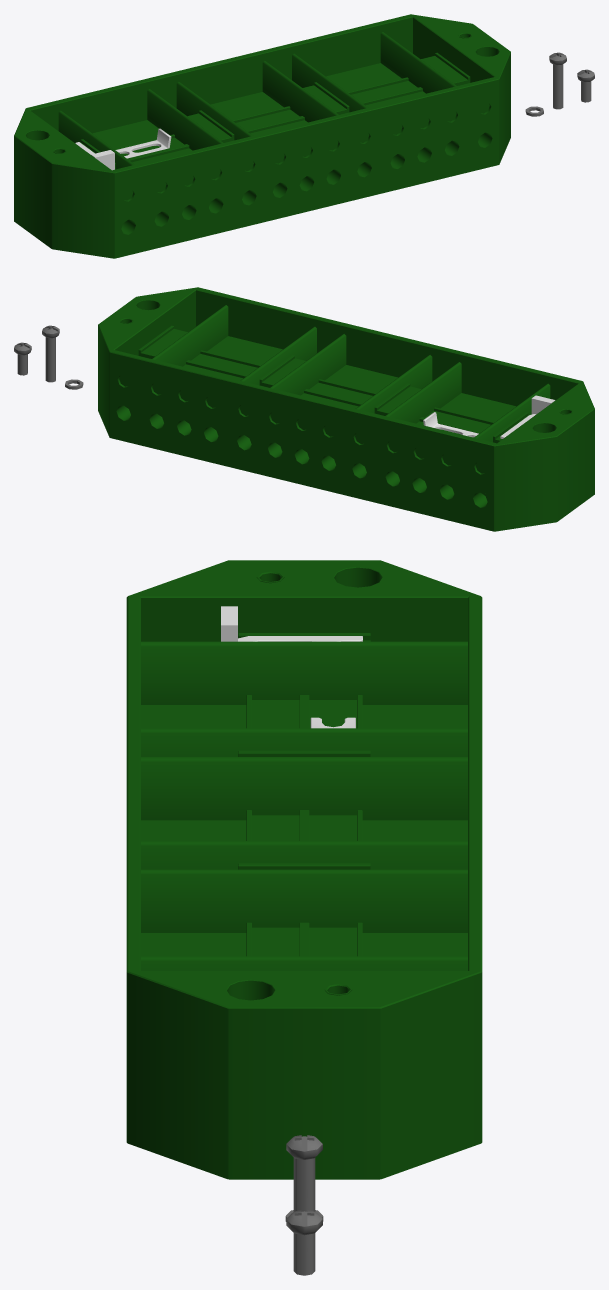
Rendered from Model_ConnectingBox01.FBX.
3 renders of one model, top to bottom at view 1: azimuth 30°, elevation 25°; view 2: azimuth 150°, elevation 25°; view 3: azimuth 270°, elevation 25°, orthographic. The views are drawn at different scales.
Parts seen in each view (by area): view 1: Model_ConnectingBox01, Model_ConnectingBox01_Screw02, Model_ConnectingBox01_WireJumperB01, Model_ConnectingBox01_Screw01; view 2: Model_ConnectingBox01, Model_ConnectingBox01_Screw02, Model_ConnectingBox01_Screw01, Model_ConnectingBox01_WireJumperB01; view 3: Model_ConnectingBox01, Model_ConnectingBox01_Screw02, Model_ConnectingBox01_Screw01.
Boxes of the visible parts, x1,y1,x2,y2 form: Model_ConnectingBox01: (14,14,510,258); Model_ConnectingBox01_Screw02: (549,52,566,109); Model_ConnectingBox01_WireJumperB01: (115,128,171,158); Model_ConnectingBox01_Screw01: (577,69,594,102); Model_ConnectingBox01: (98,287,594,531); Model_ConnectingBox01_Screw02: (42,325,59,382); Model_ConnectingBox01_Screw01: (14,342,31,375); Model_ConnectingBox01_WireJumperB01: (423,412,478,437); Model_ConnectingBox01: (126,560,482,1179); Model_ConnectingBox01_Screw02: (286,1135,322,1211); Model_ConnectingBox01_Screw01: (286,1210,322,1275).
Bounding box in the file's own units: 230 × 63 × 33.72.
